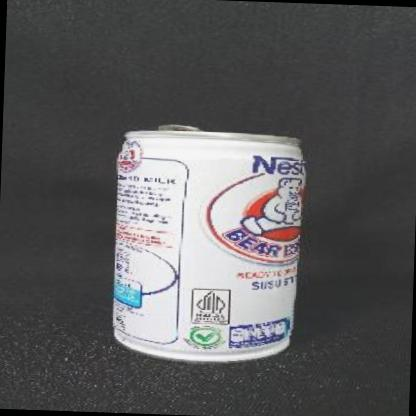alumunium_can: (108, 124, 306, 366)
